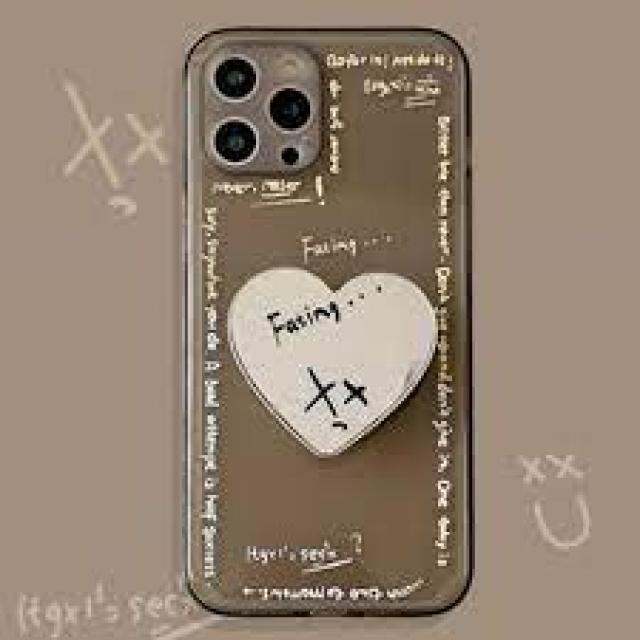Phone: (173, 12, 482, 630)
